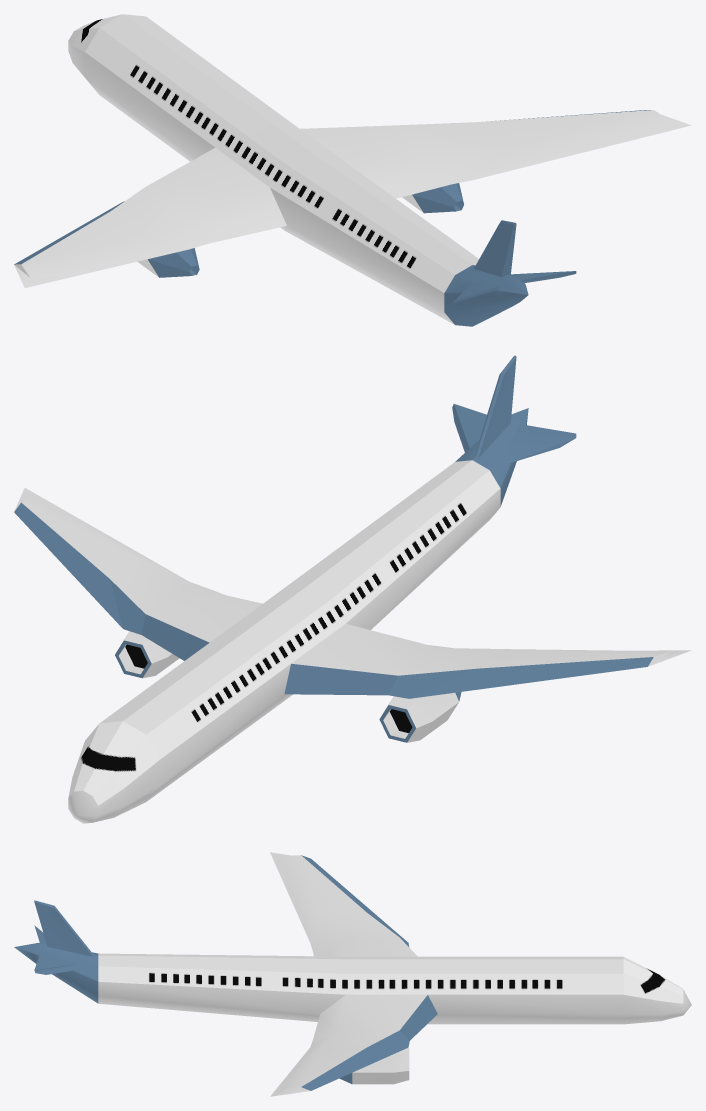
The model's file is commercial_plane.glb.
The picture shows the model from 3 angles, top to bottom: view 1: azimuth 30°, elevation 25°; view 2: azimuth 150°, elevation 25°; view 3: azimuth 270°, elevation 25°; orthographic projection. The views are drawn at different scales.
Parts seen in each view (by area): view 1: polySurface3, polySurface2; view 2: polySurface3, polySurface2; view 3: polySurface3, polySurface2.
Boxes of the visible parts, x1,y1,x2,y2 form: polySurface3: [14, 14, 691, 326]; polySurface2: [14, 14, 650, 292]; polySurface3: [14, 355, 691, 823]; polySurface2: [14, 470, 653, 805]; polySurface3: [14, 852, 691, 1096]; polySurface2: [98, 855, 683, 1090].
Size of the model in its own units: 62.22 by 15.59 by 72.88.
Materials: 4 (1 with a texture image).
